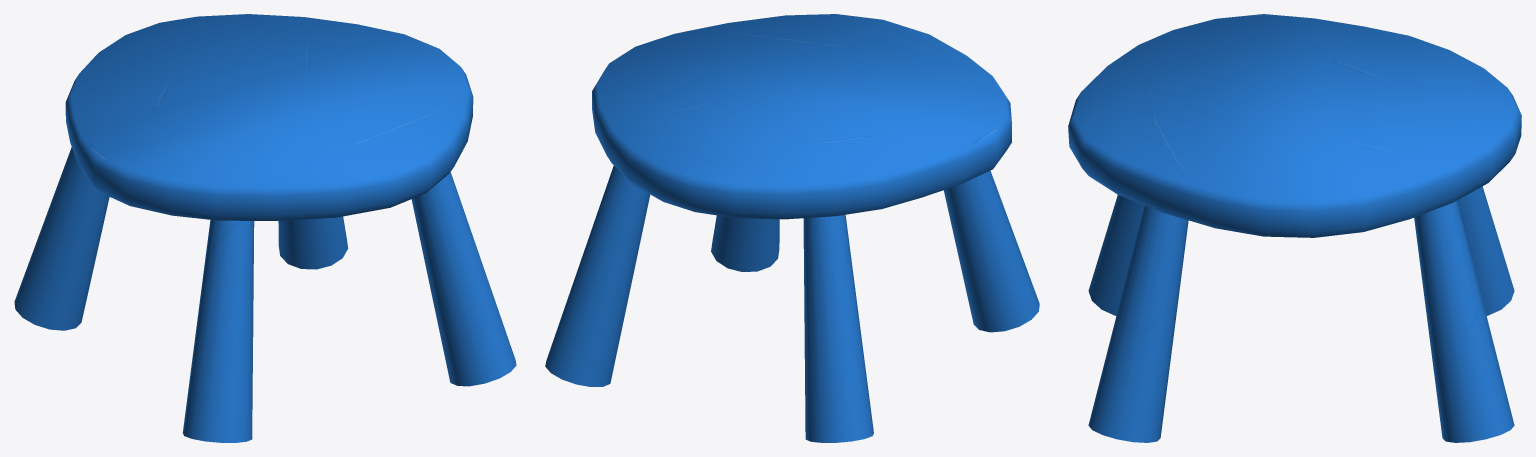
File: Table.fbx
The picture shows the model from 3 angles, left to right: view 1: azimuth 30°, elevation 25°; view 2: azimuth 150°, elevation 25°; view 3: azimuth 270°, elevation 25°; orthographic projection. The views are drawn at different scales.
Visible parts, largest first — view 1: Table; view 2: Table; view 3: Table.
Boxes of the visible parts, x1,y1,x2,y2 form: Table: [14, 14, 516, 442]; Table: [545, 14, 1039, 442]; Table: [1068, 14, 1521, 442].
Bounding box in the file's own units: 252 × 162 × 253.
